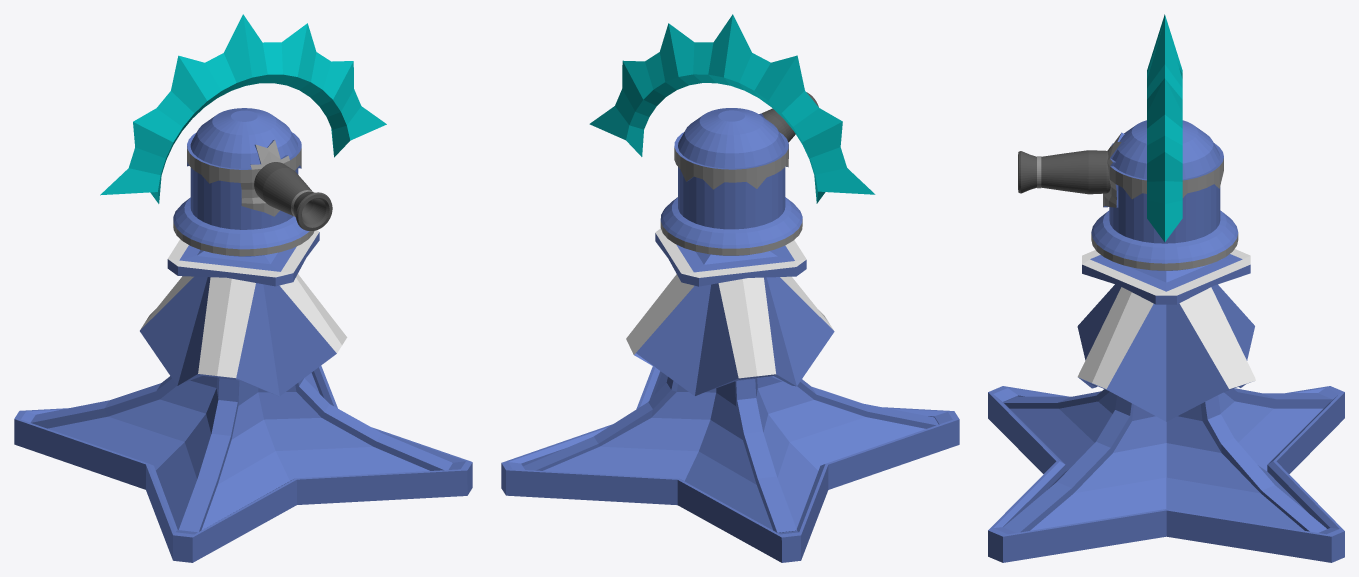
Rendered from IceTower.fbx.
3 renders of one model, left to right at view 1: azimuth 30°, elevation 25°; view 2: azimuth 150°, elevation 25°; view 3: azimuth 270°, elevation 25°, orthographic. The views are drawn at different scales.
Parts seen in each view (by area): view 1: Cube, Cylinder; view 2: Cube, Cylinder; view 3: Cube, Cylinder.
Part boxes in pixels (x1,y1,x2,y2): Cube: (14,230,472,562); Cylinder: (100,14,386,256); Cube: (501,228,959,562); Cylinder: (589,14,875,255); Cube: (988,249,1344,562); Cylinder: (1018,14,1238,270).
Bounding box in the file's own units: 309 × 454 × 309.
